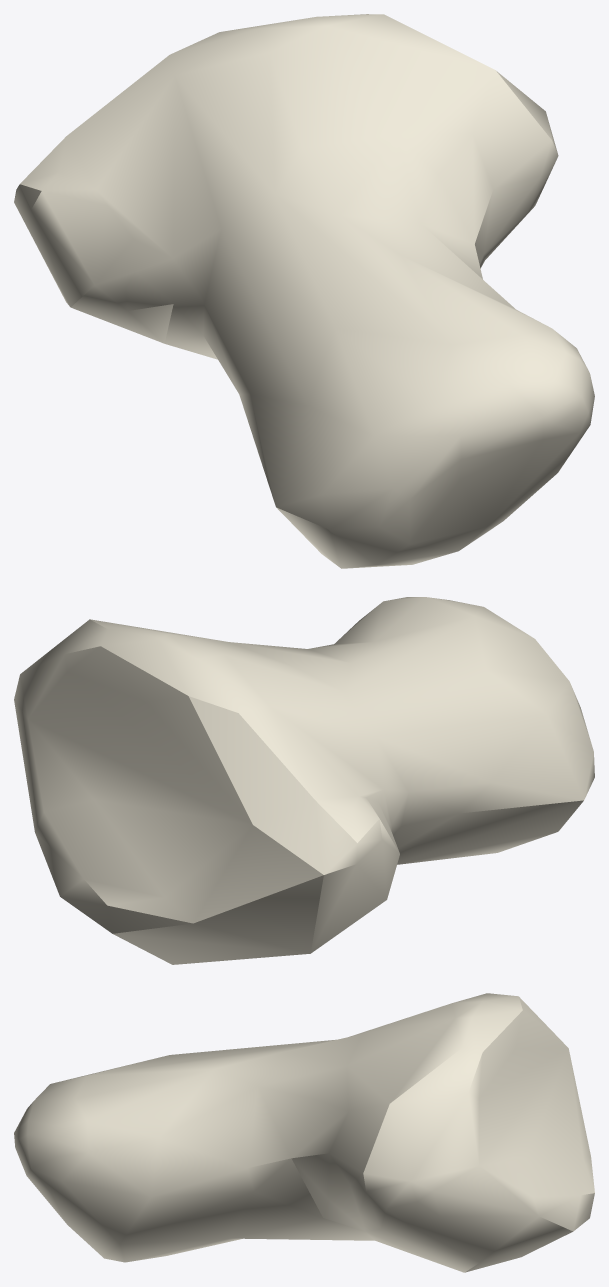
The model's file is fma32658.glb.
3 views of the same model, one above another, from view 1: azimuth 30°, elevation 25°; view 2: azimuth 150°, elevation 25°; view 3: azimuth 270°, elevation 25° (orthographic). The views are drawn at different scales.
Parts seen in each view (by area): view 1: FMA32658; view 2: FMA32658; view 3: FMA32658.
Boxes of the visible parts, x1,y1,x2,y2 form: FMA32658: [14, 14, 594, 568]; FMA32658: [14, 597, 594, 964]; FMA32658: [14, 993, 594, 1272].
Size of the model in its own units: 0.00764 by 0.00558 by 0.0106.
